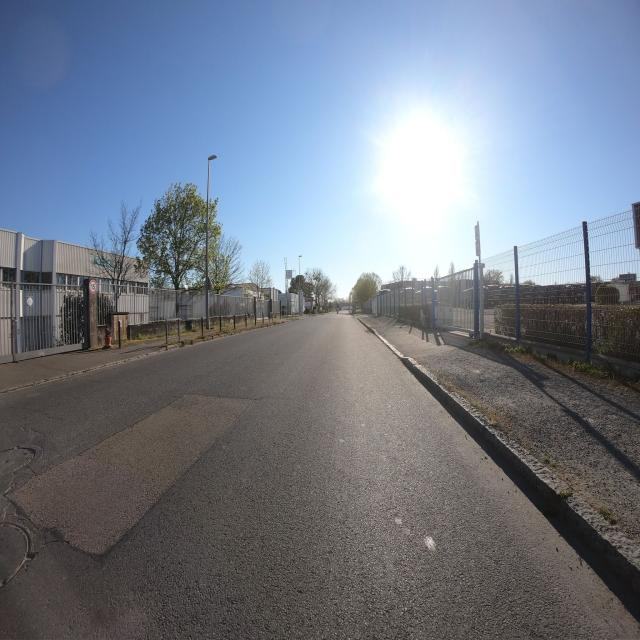car: (595, 285, 621, 305)
